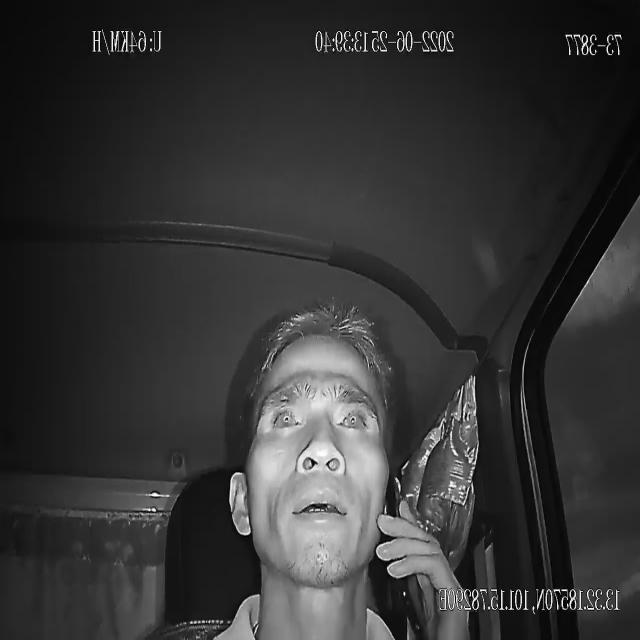phone: (384, 469, 425, 640)
